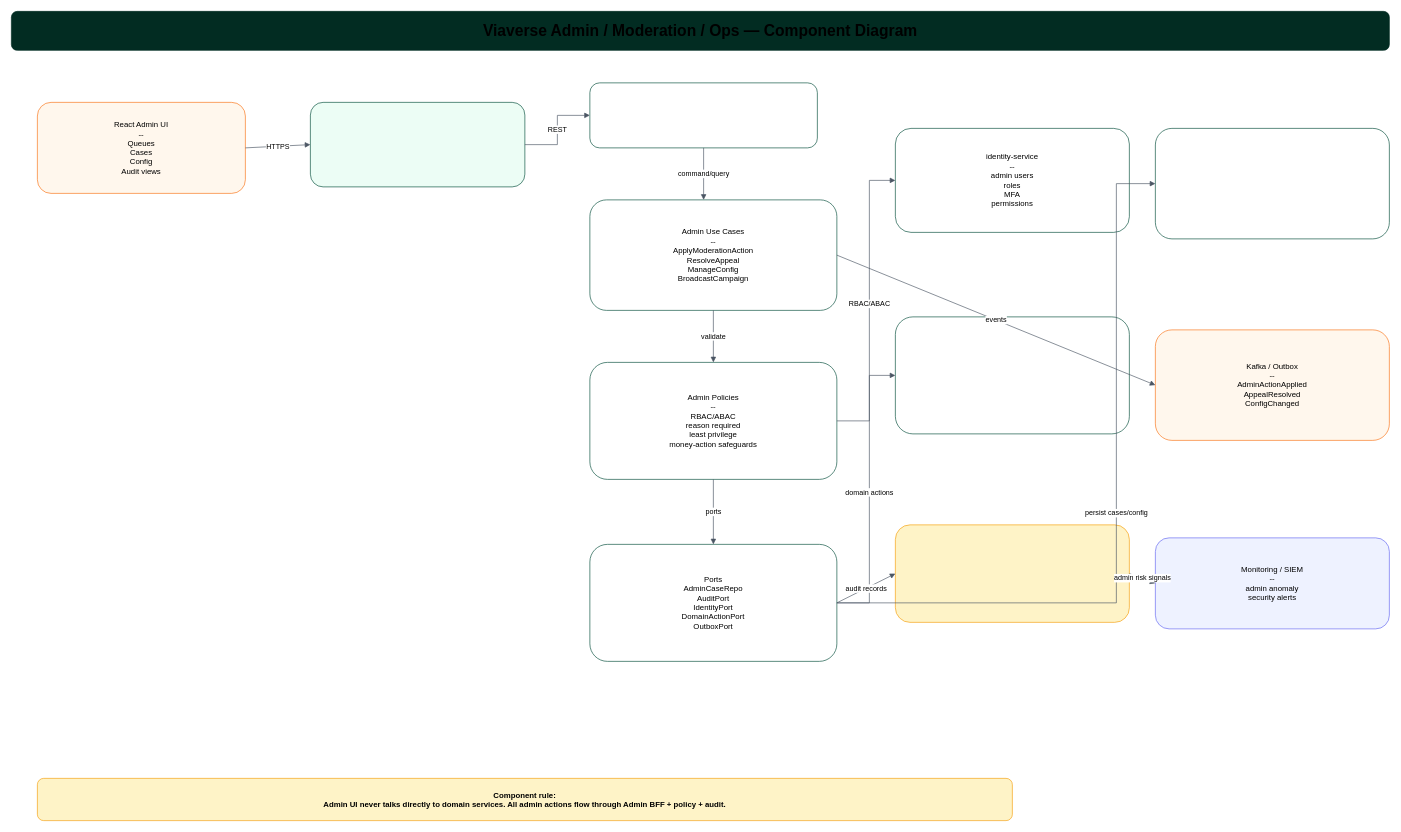
Some shapes in this 1401 by 832 pixel diagram are drawn without their labels. Here are the shapes that lost their labels. From the top down, the centre of each, then its label:
the point at 703,115: AdminController ModerationController ConfigController
the point at 417,144: Admin BFF -- Admin API MFA/session enforcement
the point at 1272,183: PostgreSQL -- admin_case admin_action platform_config appeal
the point at 1012,375: Domain Services -- identity marketplace media payment dispute
the point at 1012,573: audit-service -- immutable log reason/evidence access records
